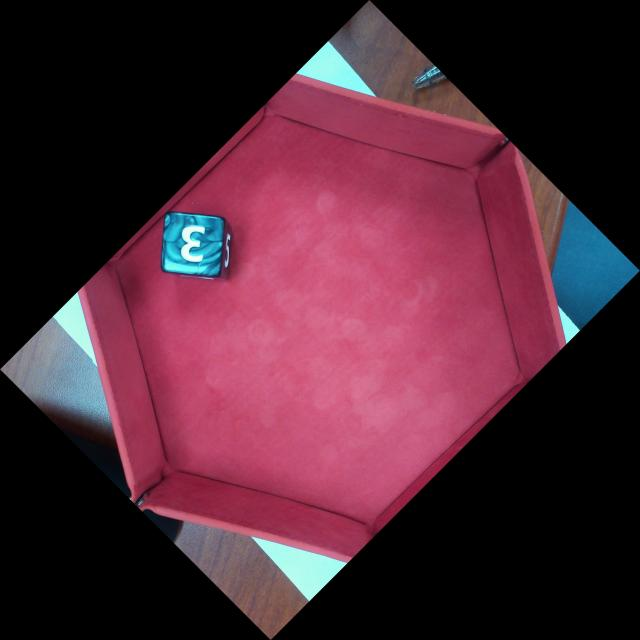dice: (160, 212, 225, 273)
